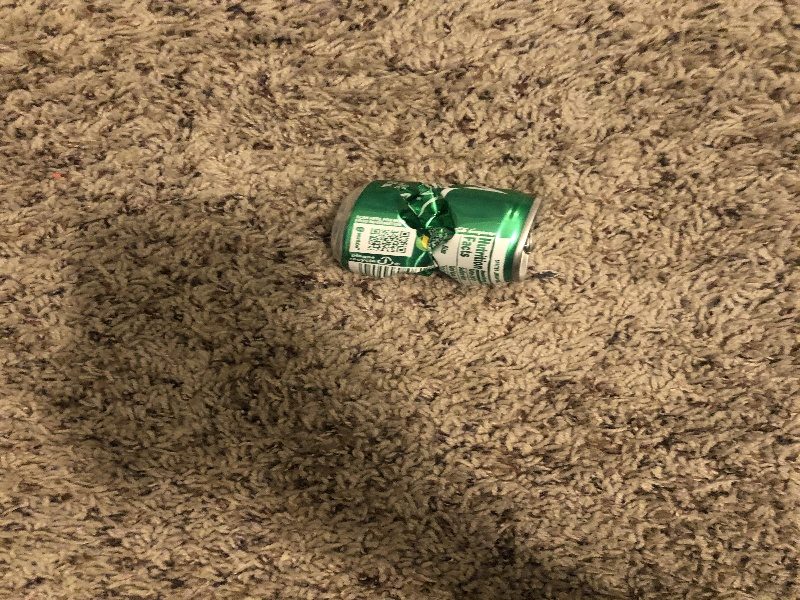metal: (323, 178, 551, 288)
